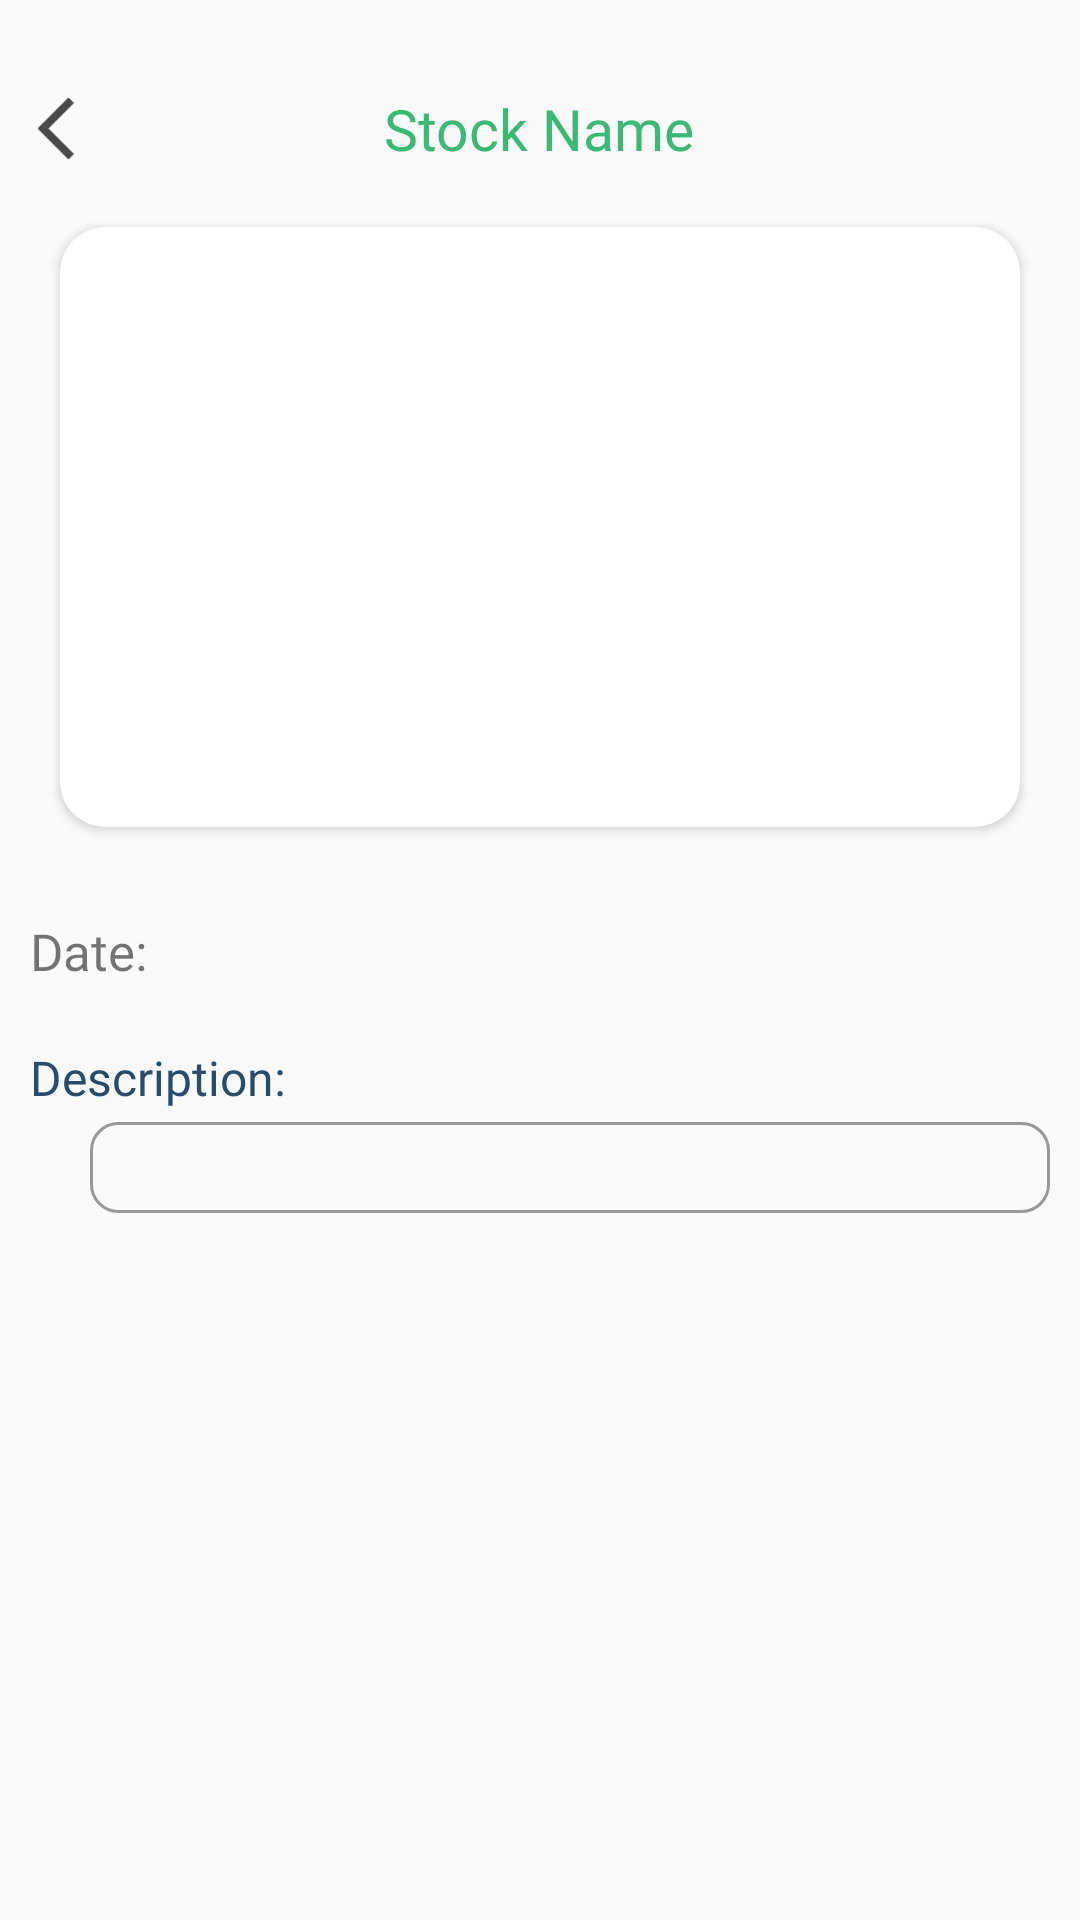

Icons on this 1080w x 1920h Android screen, each with its box as bbox(x1, y1, x2, y2):
back: bbox(38, 98, 74, 159)
